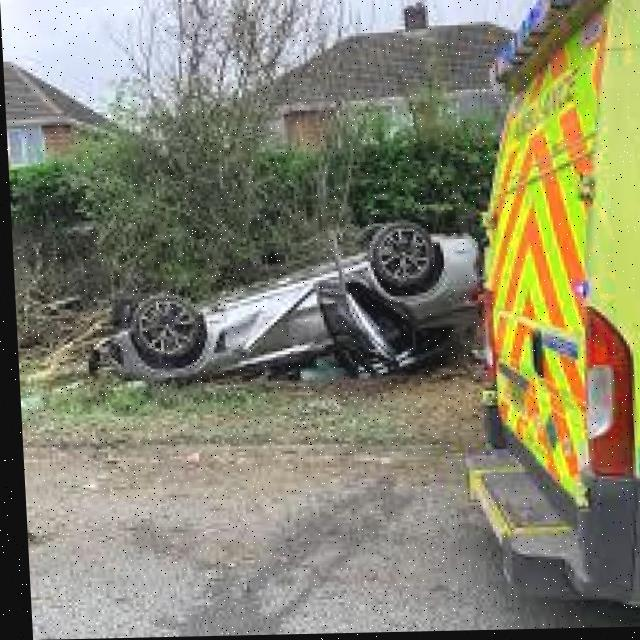single accident: (55, 186, 532, 431)
